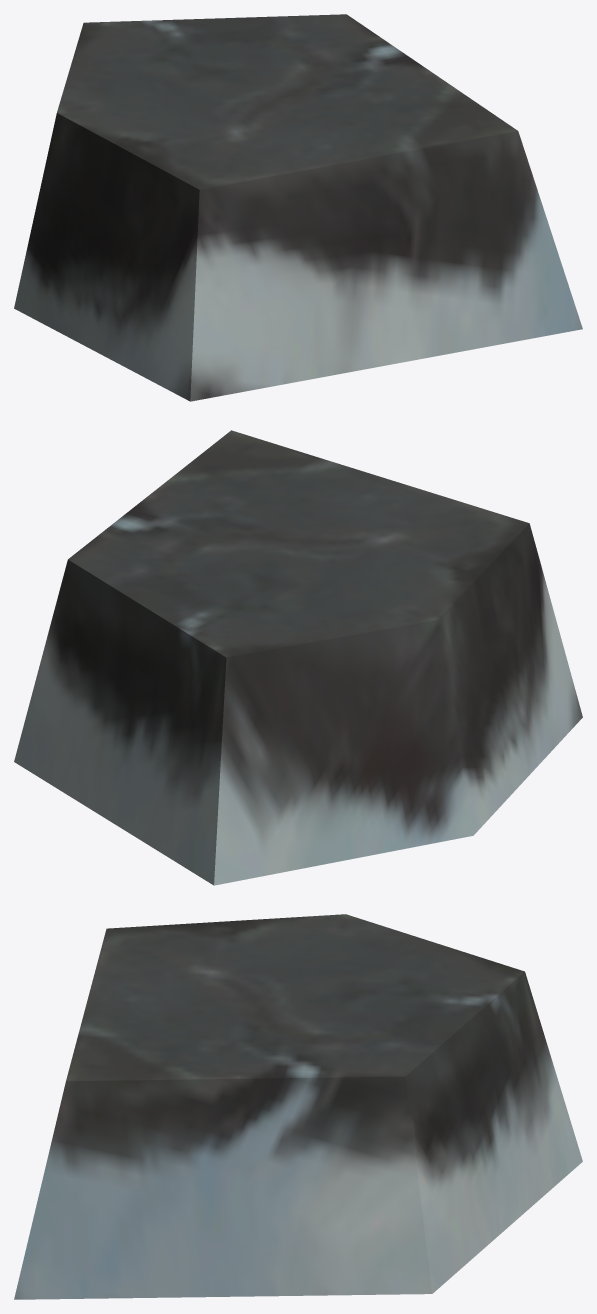
Rendered from common_yewai_shourenshikuai02.FBX.
3 renders of one model, top to bottom at view 1: azimuth 30°, elevation 25°; view 2: azimuth 150°, elevation 25°; view 3: azimuth 270°, elevation 25°, orthographic. The views are drawn at different scales.
Parts seen in each view (by area): view 1: common_yewai_shourenshikuai02; view 2: common_yewai_shourenshikuai02; view 3: common_yewai_shourenshikuai02.
Part boxes in pixels (x1,y1,x2,y2): common_yewai_shourenshikuai02: (14, 14, 582, 401); common_yewai_shourenshikuai02: (14, 430, 582, 885); common_yewai_shourenshikuai02: (14, 914, 582, 1299).
Size of the model in its own units: 0.8986 by 0.4017 by 1.04.
